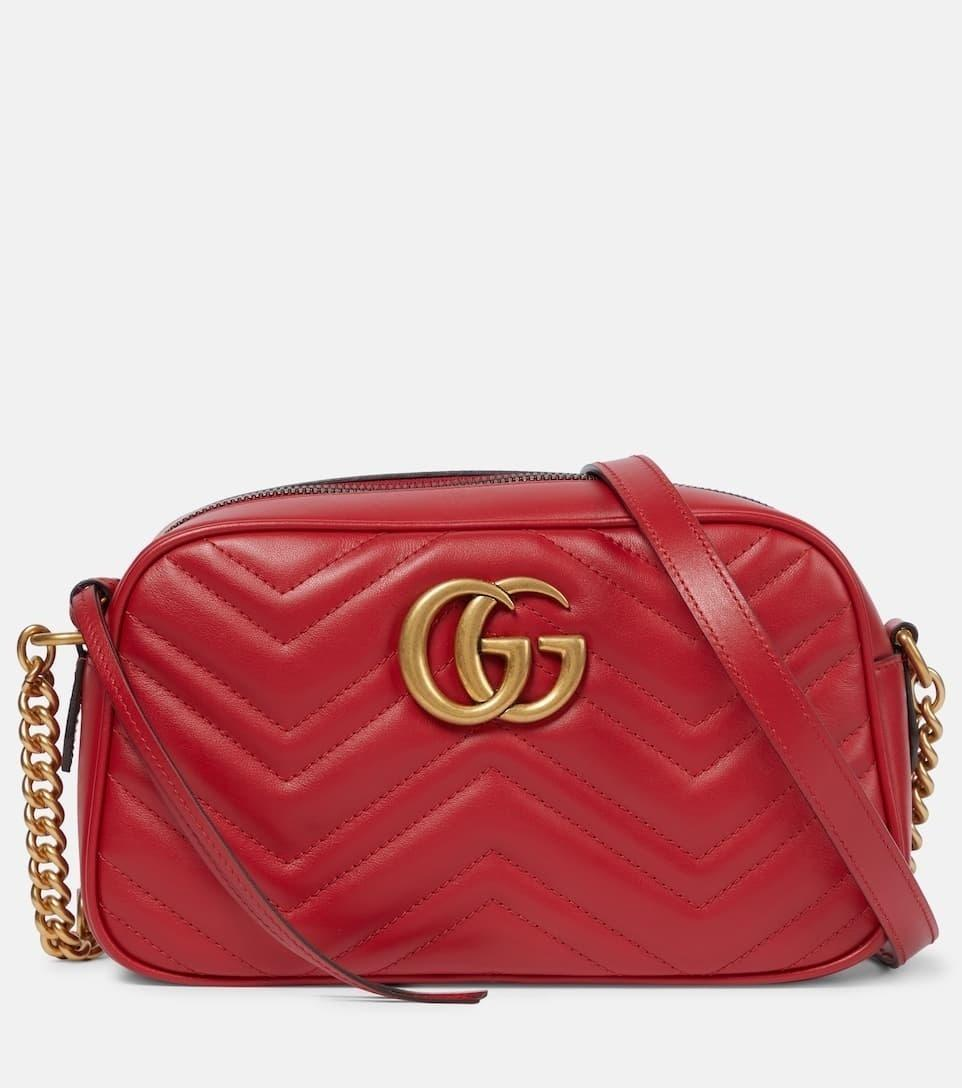GUCCI: (397, 577, 588, 727)
